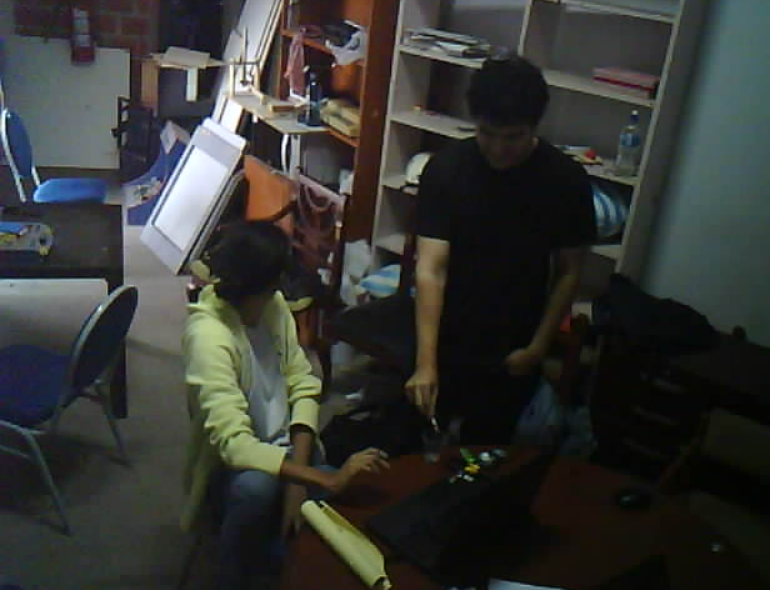person: (163, 172, 393, 590), (403, 46, 603, 461)
